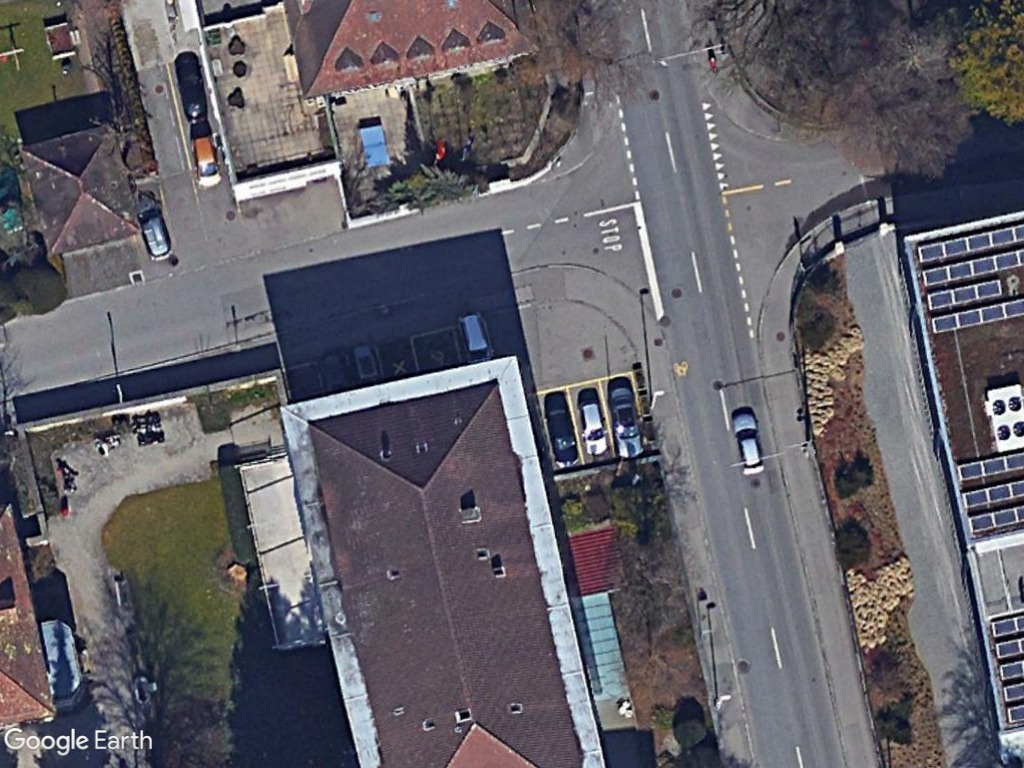car: (610, 385, 645, 460), (730, 410, 766, 476), (545, 405, 581, 468), (190, 133, 224, 190), (579, 399, 610, 458)
